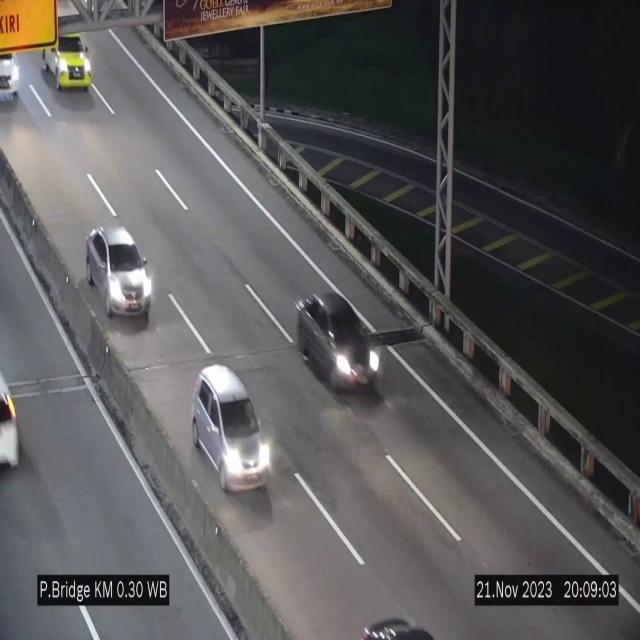Car: (192, 365, 272, 491), (297, 286, 380, 398), (86, 226, 152, 320), (40, 28, 91, 90)
